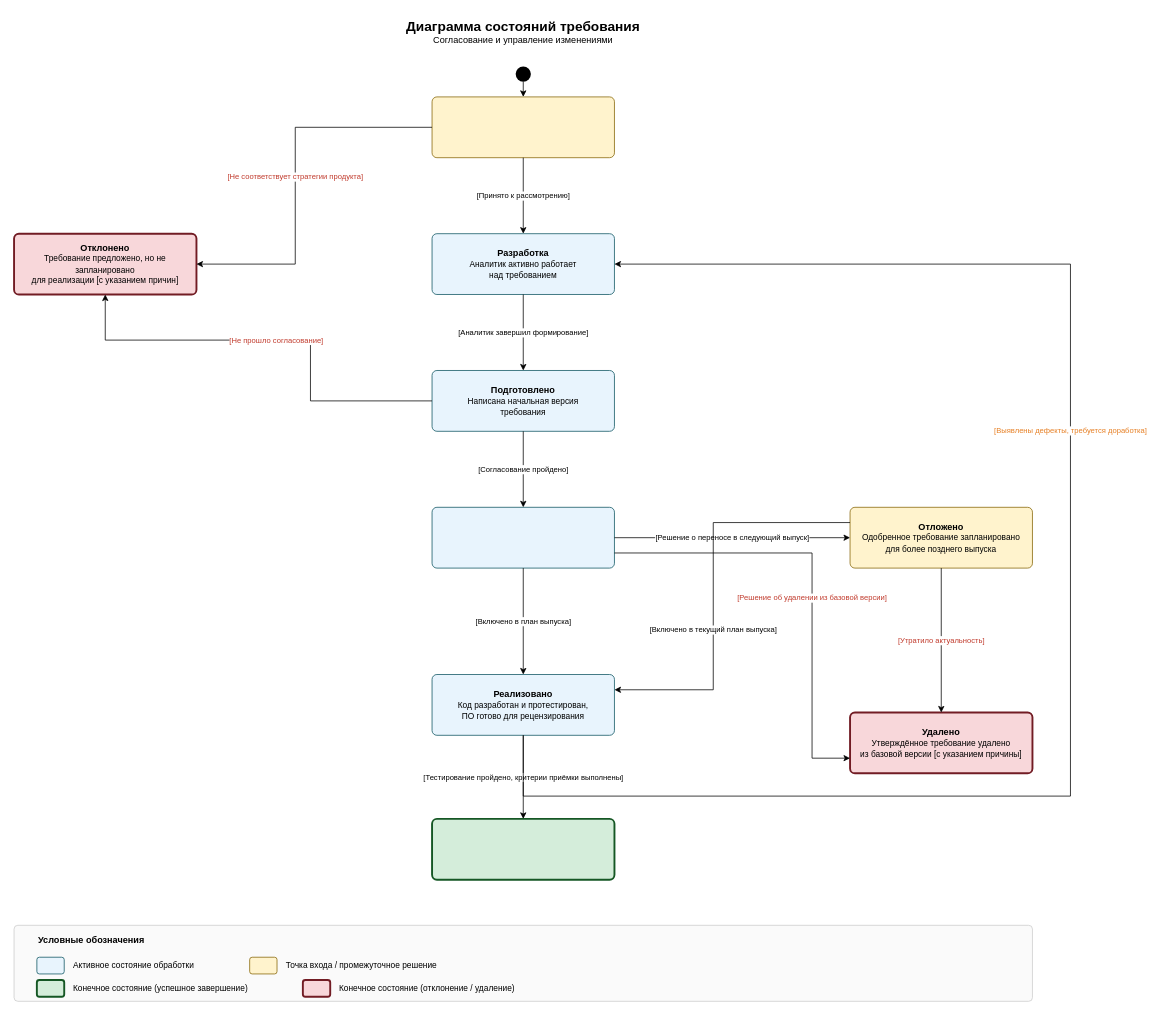
Some shapes in this 1160 by 1015 pixel diagram are drawn without their labels. The shapes that lost their labels are listed below. From the top down, each one's box as (x1, y1, x2, y2) in pixels, then its label:
(431, 96, 614, 158): Предложено Требование запрошено уполномоченным лицом
(431, 507, 614, 568): Одобрено Проанализировано, влияние просчитано, размещено в базовой версии
(431, 818, 615, 880): Проверено Требование удовлетворяет критериям приёмки, считается завершённым
